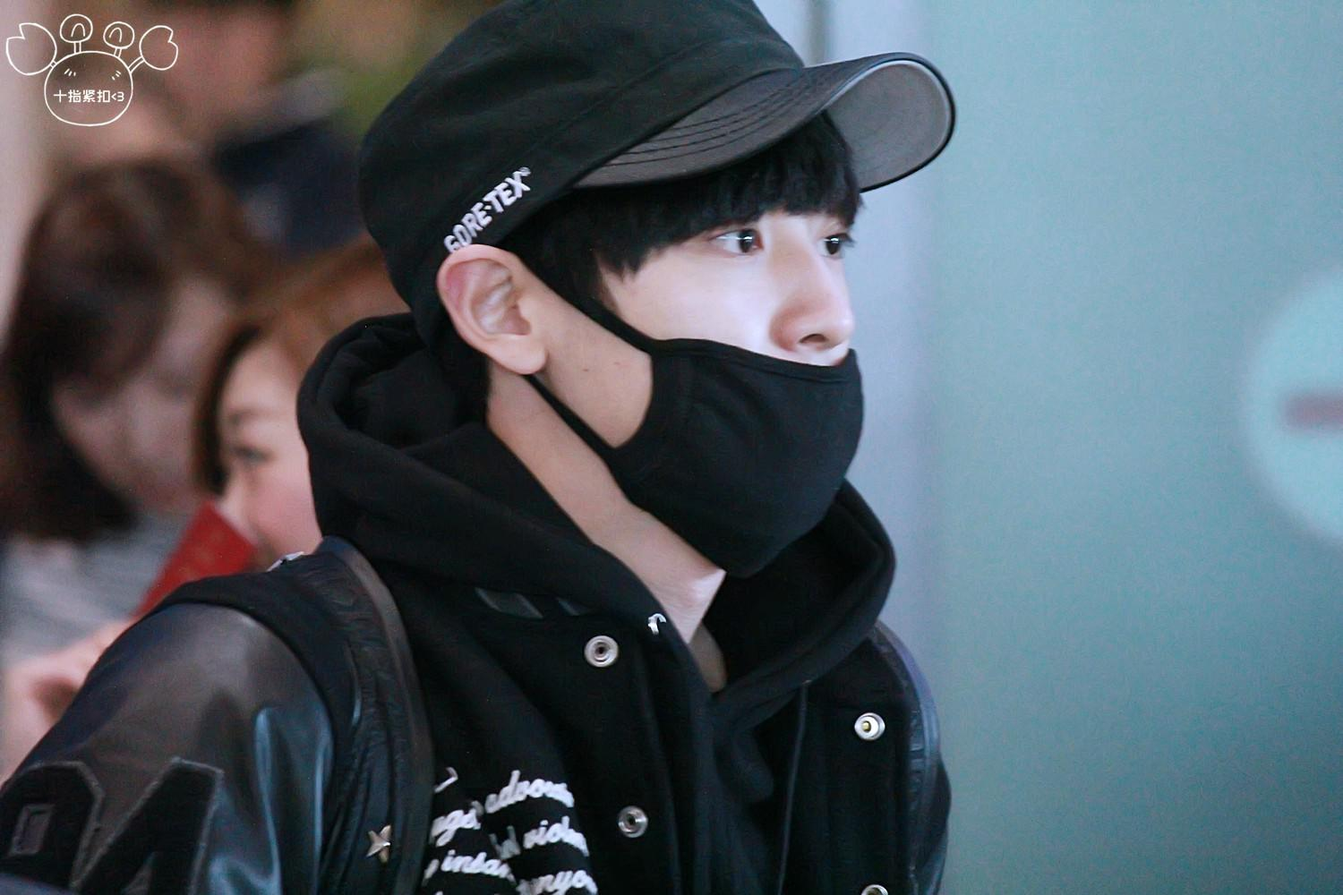NONE: (199, 408, 405, 636), (51, 353, 245, 532)
WRONG: (510, 177, 885, 551)
